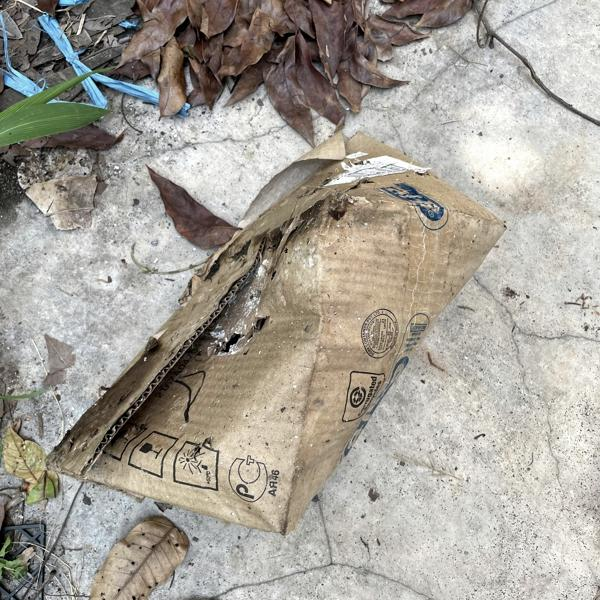Organik: (43, 137, 500, 513)
